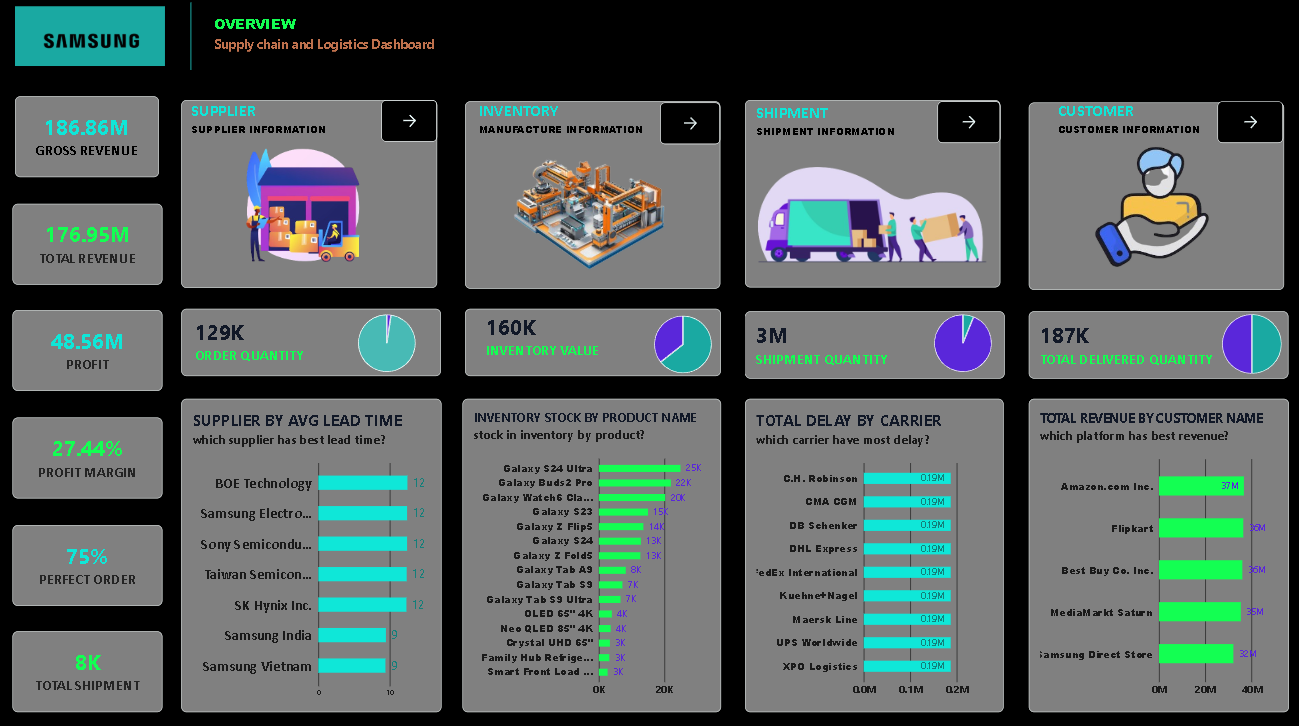

This screenshot's page, from the dashboard's own definition file:
{"tool":"powerbi","page":{"name":"OVERVIEW","canvas":[1920,1080],"ordinal":1},"visuals":[{"type":"shape","box":[266.9,154.6,376.4,276.9],"z":0},{"type":"shape","box":[684.7,156.4,376,276],"z":1000},{"type":"shape","box":[1096.9,154.6,376,276],"z":2000},{"type":"shape","box":[1514.7,158.3,376,276],"z":3000},{"type":"actionButton","box":[561.4,154.6,82.3,61.7],"z":4000},{"type":"actionButton","box":[1792.6,156.4,96.7,61.7],"z":5000},{"type":"actionButton","box":[1380.4,156.4,92.6,61.7],"z":6000},{"type":"actionButton","box":[971.8,158.3,88.5,61.7],"z":7000},{"type":"textbox","title":"SUPPLIER","box":[281.6,154.6,199.7,65.9],"z":8000},{"type":"textbox","title":"CUSTOMER","box":[1556.3,153.8,216.1,65.9],"z":9000},{"type":"textbox","title":"INVENTORY","box":[704.9,154.6,255.2,65.9],"z":10000},{"type":"textbox","title":"SHIPMENT","box":[1113.5,158.3,212,65.9],"z":11000},{"type":"image","box":[281.6,202.5,327.5,213.5],"z":12000},{"type":"image","box":[681,206.1,376.4,226.2],"z":13000},{"type":"image","box":[1096.9,198.8,363.7,240.7],"z":14000},{"type":"image","box":[1511.1,204.3,380,209.9],"z":15000},{"type":"cardVisual","fields":{"Data":["MeasureTable.Total_Revenue"]},"box":[18.1,306.5,221,119],"z":16000},{"type":"shape","box":[193.3,11,175.5,99.5],"z":17000},{"type":"image","box":[22.1,16.6,220.9,88.3],"z":18000},{"type":"textbox","title":"OVERVIEW","box":[314.7,27.6,354.7,67],"z":19000},{"type":"cardVisual","fields":{"Data":["MeasureTable.Profit"]},"box":[18.1,464.3,221,119],"z":20000},{"type":"cardVisual","fields":{"Data":["MeasureTable.Profit_Margin%"]},"box":[18.1,622,221,119],"z":21000},{"type":"cardVisual","fields":{"Data":["MeasureTable.Perfect_Order%"]},"box":[18.1,779.7,221,119],"z":22000},{"type":"cardVisual","fields":{"Data":["Sum(fact_sales.gross_revenue)"]},"box":[21.7,148.4,211.7,119.4],"z":23000},{"type":"shape","box":[266.9,462,382,99.5],"z":24000},{"type":"shape","box":[684.7,462,376.4,99.5],"z":25000},{"type":"shape","box":[1514.7,465.6,382,99.5],"z":26000},{"type":"shape","box":[1096.9,465.6,382,99.5],"z":27000},{"type":"cardVisual","fields":{"Data":["MeasureTable.Order_Quantity"]},"box":[270.6,467.5,195.4,85.1],"z":28000},{"type":"cardVisual","fields":{"Data":["MeasureTable.Total_Shipment"]},"box":[18.1,937.4,221,119],"z":29000},{"type":"cardVisual","fields":{"Data":["MeasureTable.Total_Delivered_Quantity"]},"box":[1514.7,473,296.8,85.1],"z":30000},{"type":"cardVisual","fields":{"Data":["MeasureTable.Total_Shipment_quantity"]},"box":[1096.9,473,228,85.1],"z":31000},{"type":"cardVisual","fields":{"Data":["MeasureTable.Inventory_Value"]},"box":[699.4,460.1,209.9,85.1],"z":32000},{"type":"barChart","title":"SUPPLIER BY AVG LEAD TIME","fields":{"Y":["MeasureTable.Avg_Lead_Time"],"Category":["dim_supplier.supplier_name"]},"box":[266.9,594.5,382.8,462],"z":33000},{"type":"barChart","title":"TOTAL REVENUE BY CUSTOMER NAME","fields":{"Y":["MeasureTable.Total_Revenue"],"Category":["dim_customer.customer_name"]},"box":[1514.7,594.5,382.8,462],"z":34000},{"type":"barChart","title":"TOTAL DELAY BY CARRIER","fields":{"Category":["fact_shipment.carrier"],"Y":["MeasureTable.Total_Delay"]},"box":[1096.9,594.5,381,462],"z":35000},{"type":"clusteredBarChart","title":"INVENTORY STOCK BY PRODUCT NAME","fields":{"Category":["dim_product.product_name"],"Y":["MeasureTable.Inventory_Value"]},"box":[681,594.5,381,462],"z":36000},{"type":"pieChart","fields":{"Y":["MeasureTable.Defect_Rate","MeasureTable.Order_Quantity"]},"box":[458.3,445.4,222.6,135.7],"z":37000},{"type":"pieChart","fields":{"Y":["MeasureTable.Total_Delivered_Quantity","MeasureTable.Total_Delay"]},"box":[1772.4,443.6,141.7,141.7],"z":38000},{"type":"pieChart","fields":{"Y":["MeasureTable.Inventory_Value","MeasureTable.Safety_Stock"]},"box":[883.4,447.2,244.3,135.7],"z":39000},{"type":"pieChart","fields":{"Y":["MeasureTable.Total_Delay","Sum(fact_shipment.quantity)"]},"box":[1295.7,445.4,244.3,135.7],"z":40000}]}

Visuals, with their boxes in screenshot pixels (x1, y1, x2, y2), scaled from the page's 1920x1080 canvas onto the 1299x726 screenshot:
shape: 181, 104, 435, 290
shape: 463, 105, 718, 291
shape: 742, 104, 997, 289
shape: 1025, 106, 1279, 292
actionButton: 380, 104, 436, 145
actionButton: 1213, 105, 1278, 147
actionButton: 934, 105, 997, 147
actionButton: 657, 106, 717, 148
"SUPPLIER" textbox: 191, 104, 326, 148
"CUSTOMER" textbox: 1053, 103, 1199, 148
"INVENTORY" textbox: 477, 104, 650, 148
"SHIPMENT" textbox: 753, 106, 897, 151
image: 191, 136, 412, 280
image: 461, 139, 715, 291
image: 742, 134, 988, 295
image: 1022, 137, 1279, 278
cardVisual - MeasureTable.Total_Revenue: 12, 206, 162, 286
shape: 131, 7, 250, 74
image: 15, 11, 164, 71
"OVERVIEW" textbox: 213, 19, 453, 64
cardVisual - MeasureTable.Profit: 12, 312, 162, 392
cardVisual - MeasureTable.Profit_Margin%: 12, 418, 162, 498
cardVisual - MeasureTable.Perfect_Order%: 12, 524, 162, 604
cardVisual - Sum(fact_sales.gross_revenue): 15, 100, 158, 180
shape: 181, 311, 439, 377
shape: 463, 311, 718, 377
shape: 1025, 313, 1283, 380
shape: 742, 313, 1001, 380
cardVisual - MeasureTable.Order_Quantity: 183, 314, 315, 371
cardVisual - MeasureTable.Total_Shipment: 12, 630, 162, 710
cardVisual - MeasureTable.Total_Delivered_Quantity: 1025, 318, 1226, 375
cardVisual - MeasureTable.Total_Shipment_quantity: 742, 318, 896, 375
cardVisual - MeasureTable.Inventory_Value: 473, 309, 615, 366
"SUPPLIER BY AVG LEAD TIME" barChart: 181, 400, 440, 710
"TOTAL REVENUE BY CUSTOMER NAME" barChart: 1025, 400, 1284, 710
"TOTAL DELAY BY CARRIER" barChart: 742, 400, 1000, 710
"INVENTORY STOCK BY PRODUCT NAME" clusteredBarChart: 461, 400, 719, 710
pieChart - MeasureTable.Defect_Rate x MeasureTable.Order_Quantity: 310, 299, 461, 391
pieChart - MeasureTable.Total_Delivered_Quantity x MeasureTable.Total_Delay: 1199, 298, 1295, 393
pieChart - MeasureTable.Inventory_Value x MeasureTable.Safety_Stock: 598, 301, 763, 392
pieChart - MeasureTable.Total_Delay x Sum(fact_shipment.quantity): 877, 299, 1042, 391
